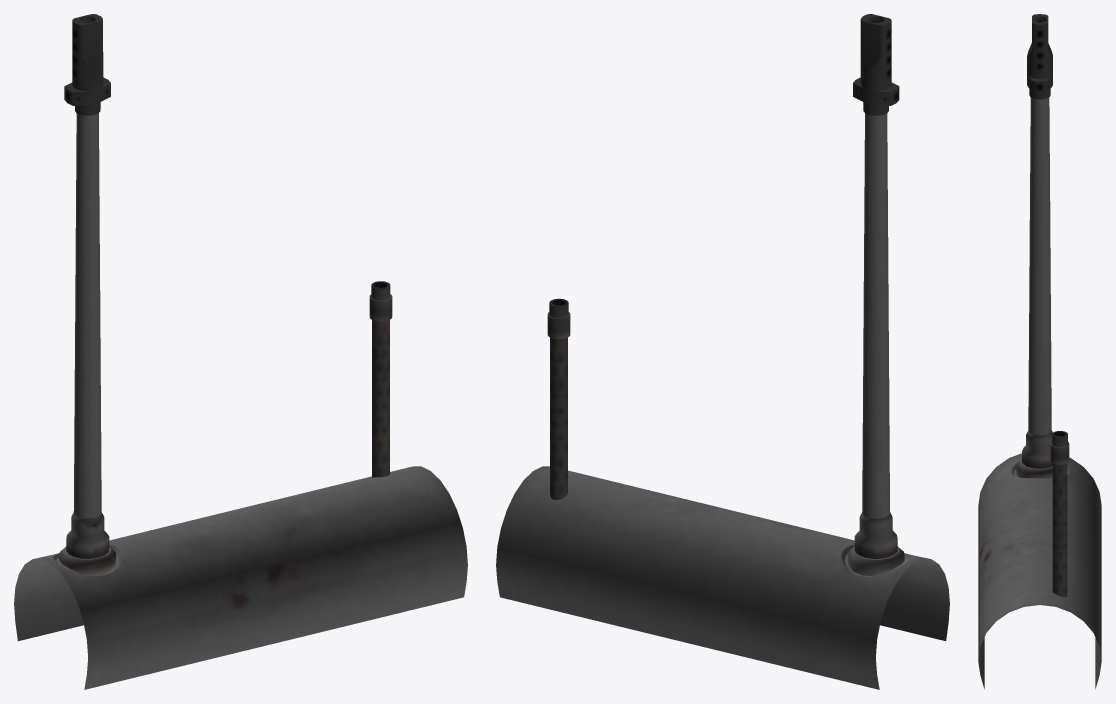
Rendered from Gun_09.glb.
The picture shows the model from 3 angles, left to right: view 1: azimuth 30°, elevation 25°; view 2: azimuth 150°, elevation 25°; view 3: azimuth 270°, elevation 25°; orthographic projection. The views are drawn at different scales.
Parts seen in each view (by area): view 1: set_0_group_0; view 2: set_0_group_0; view 3: set_0_group_0.
Part boxes in pixels (bbox=[...]): set_0_group_0: bbox=[14, 14, 467, 689]; set_0_group_0: bbox=[496, 14, 949, 689]; set_0_group_0: bbox=[978, 14, 1101, 689].
Bounding box in the file's own units: 0.7421 × 1.19 × 0.2509.
1 material, 1 textured.
